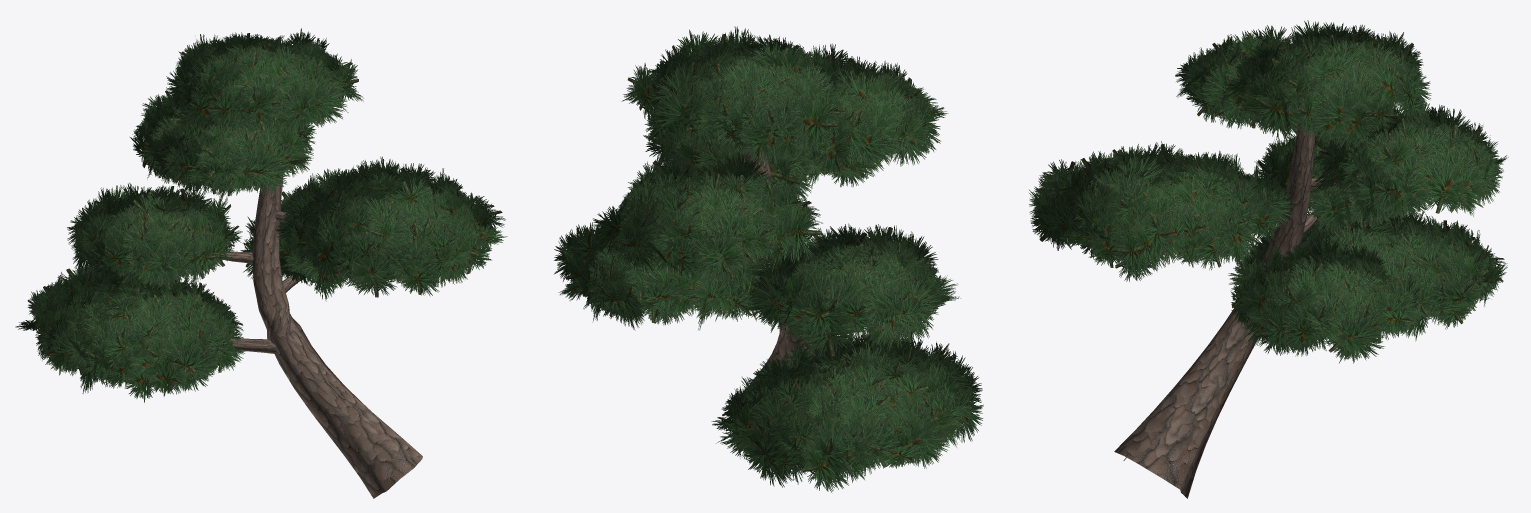
File: tree-pine-niwaki.glb
3 views of the same model, side by side, from view 1: azimuth 30°, elevation 25°; view 2: azimuth 150°, elevation 25°; view 3: azimuth 270°, elevation 25° (orthographic). The views are drawn at different scales.
Parts seen in each view (by area): view 1: leaves, bark; view 2: leaves, bark; view 3: leaves, bark.
Part boxes in pixels (box(x1,y1,x2,y2)): leaves: box(15, 28, 507, 402); bark: box(221, 176, 422, 498); leaves: box(554, 26, 983, 492); bark: box(743, 151, 817, 395); leaves: box(1029, 20, 1508, 363); bark: box(1114, 104, 1344, 498).
Size of the model in its own units: 4.66 by 4.91 by 5.05.
2 materials, 2 textured.
